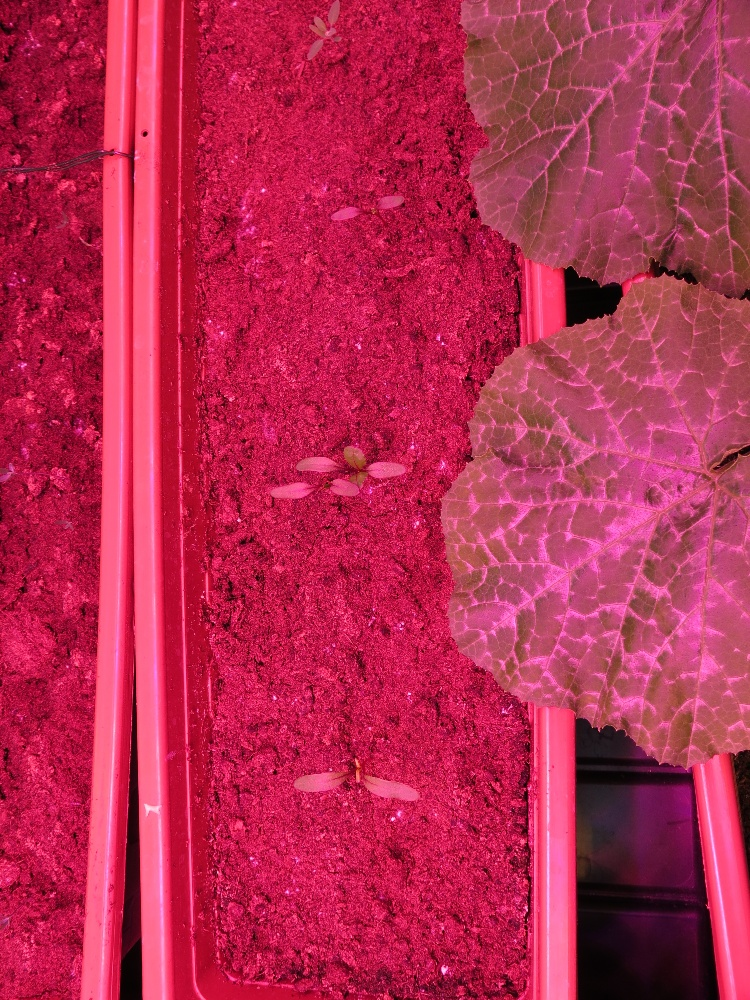crop: (292, 754, 420, 807), (289, 452, 412, 483), (328, 189, 405, 224), (265, 476, 362, 503)
weed: (306, 1, 343, 62)
